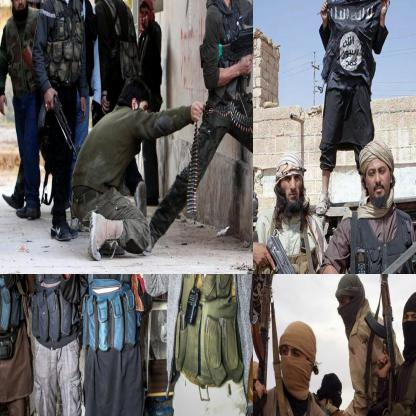knife: (347, 171, 415, 273)
rifle: (21, 43, 82, 162), (362, 274, 403, 375), (197, 9, 252, 82), (253, 274, 276, 415), (268, 237, 325, 273)
